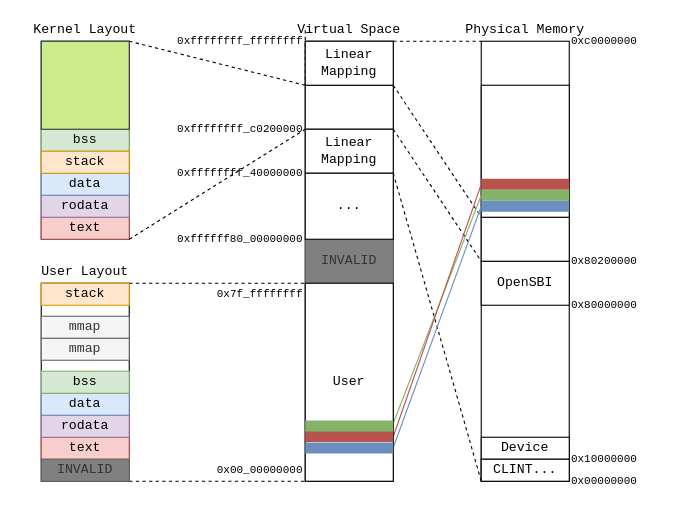
Image size: 675x510. Some labels were removed from this diagram. The shapes that lost their labels are listed below. From the top down, each one's centre as x and y in pixels, then its label:
At (x=84, y=84): "heap".
At (x=348, y=106): "Kernel".
At (x=524, y=150): "Available Memory".
At (x=524, y=238): "rCore".
